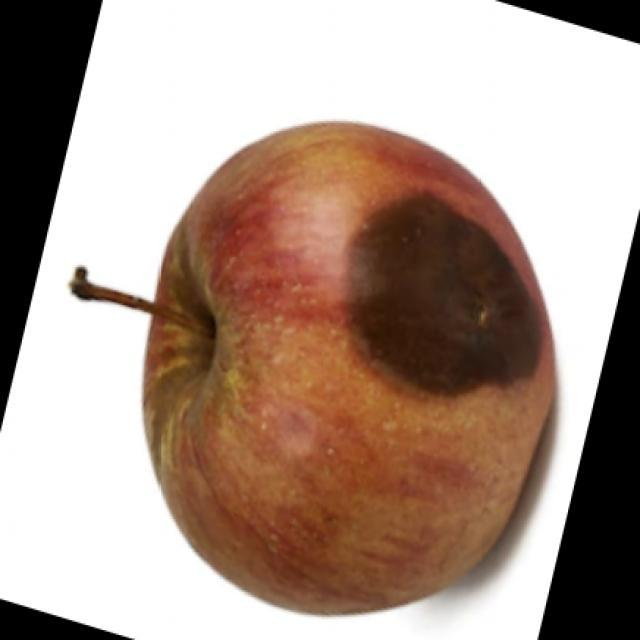Rotten: (128, 132, 560, 600)
